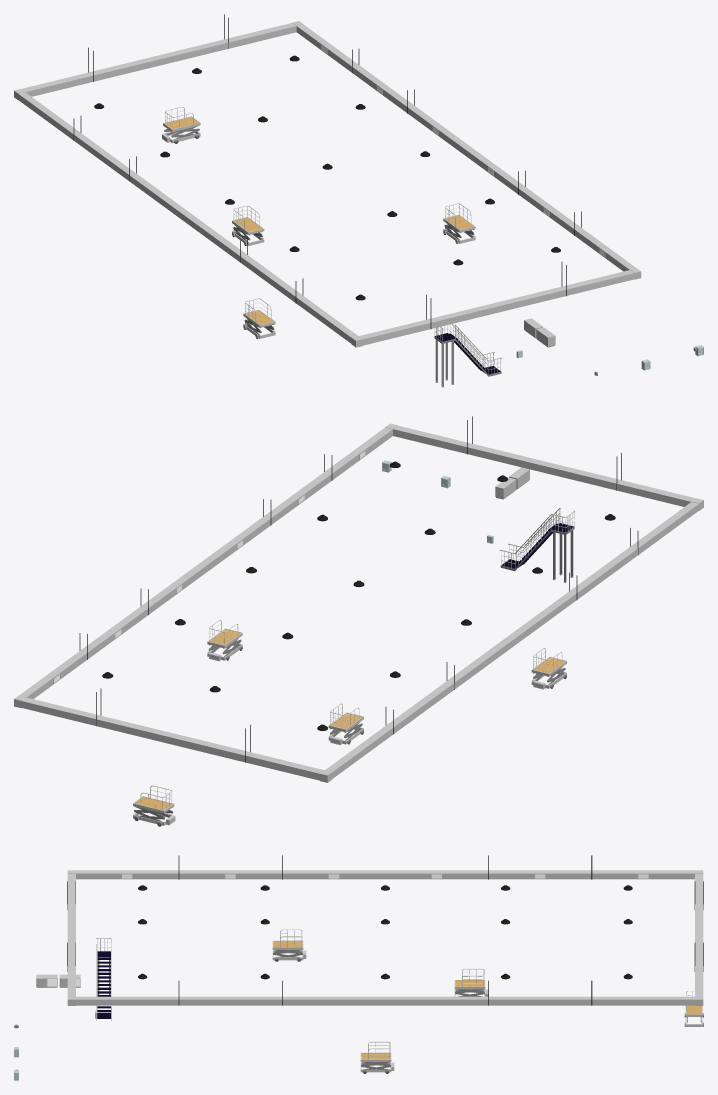
File: ondo and kllng.fbx
3 views of the same model, one above another, from view 1: azimuth 30°, elevation 25°; view 2: azimuth 150°, elevation 25°; view 3: azimuth 270°, elevation 25° (orthographic). The views are drawn at different scales.
Visible parts, largest first — view 1: 23. KLLNG, 18. ondo, 22. tangga, 21. lampu; view 2: 23. KLLNG, 18. ondo, 22. tangga, 21. lampu; view 3: 23. KLLNG, 18. ondo, 22. tangga, 21. lampu, 19. trafo.
Boxes of the visible parts, <box> form: 23. KLLNG: <box>14,14,641,347</box>; 18. ondo: <box>162,106,475,338</box>; 22. tangga: <box>434,324,502,387</box>; 21. lampu: <box>94,55,560,300</box>; 23. KLLNG: <box>14,416,703,782</box>; 18. ondo: <box>133,619,566,826</box>; 22. tangga: <box>499,507,574,582</box>; 21. lampu: <box>102,461,615,730</box>; 23. KLLNG: <box>67,855,703,1005</box>; 18. ondo: <box>272,929,703,1073</box>; 22. tangga: <box>96,938,111,1020</box>; 21. lampu: <box>138,885,632,979</box>; 19. trafo: <box>36,974,80,987</box>.
Bounding box in the file's own units: 1439 × 466 × 2901.
